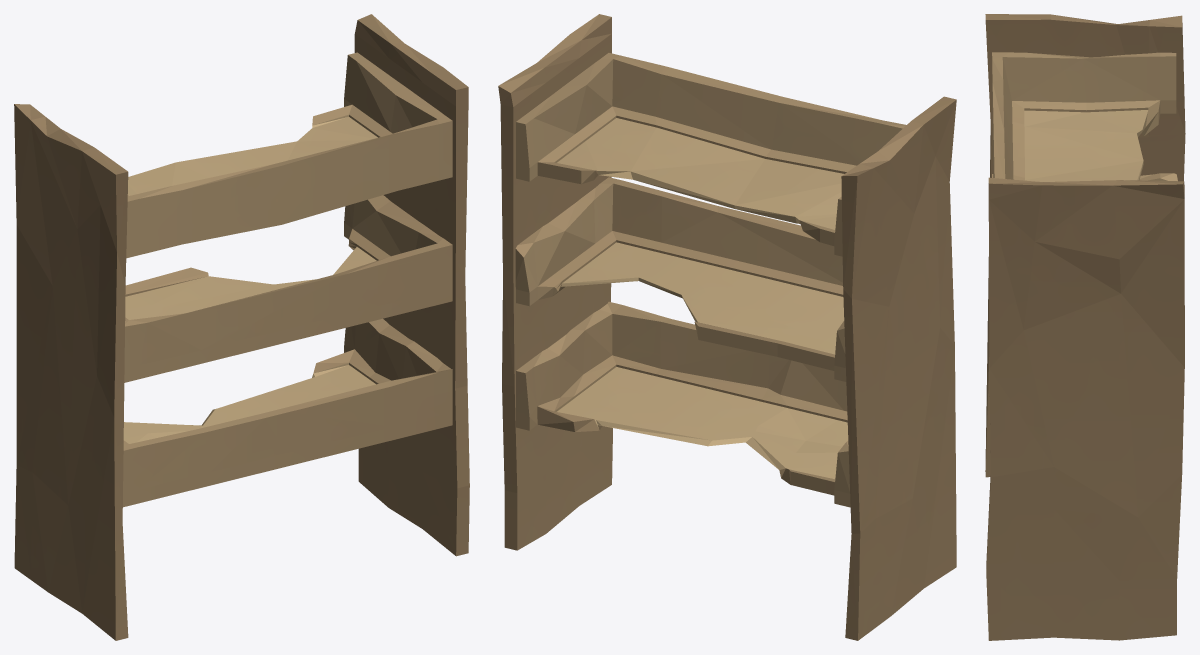
The model's file is shelf_1.obj.
3 views of the same model, side by side, from view 1: azimuth 30°, elevation 25°; view 2: azimuth 150°, elevation 25°; view 3: azimuth 270°, elevation 25° (orthographic). The views are drawn at different scales.
Visible parts, largest first — view 1: shelf_1_Mesh; view 2: shelf_1_Mesh; view 3: shelf_1_Mesh.
Part boxes in pixels (bbox=[...]): shelf_1_Mesh: bbox=[14, 14, 469, 640]; shelf_1_Mesh: bbox=[498, 14, 956, 640]; shelf_1_Mesh: bbox=[985, 14, 1185, 640].
Bounding box in the file's own units: 1.12 × 1.4 × 0.5541.
